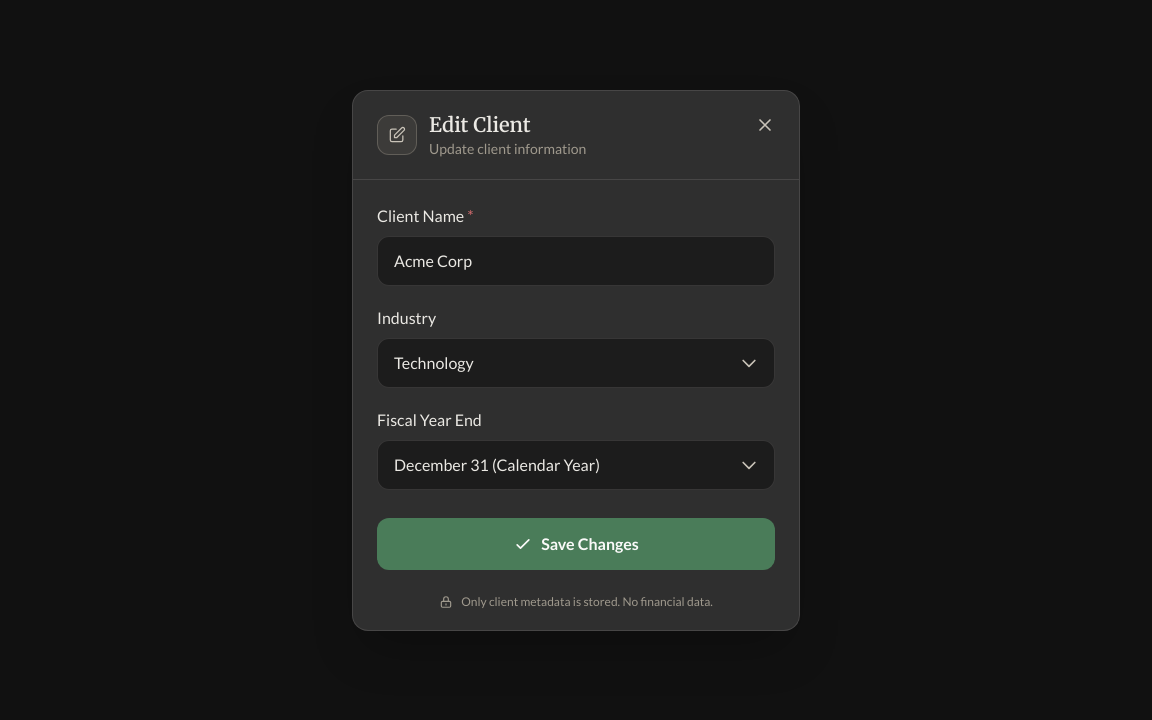
it: EditClientModal › shows validation error for empty name
Clear the field labelled "Client Name *". click: (576, 260)
box: left=377, top=236, right=775, bottom=286
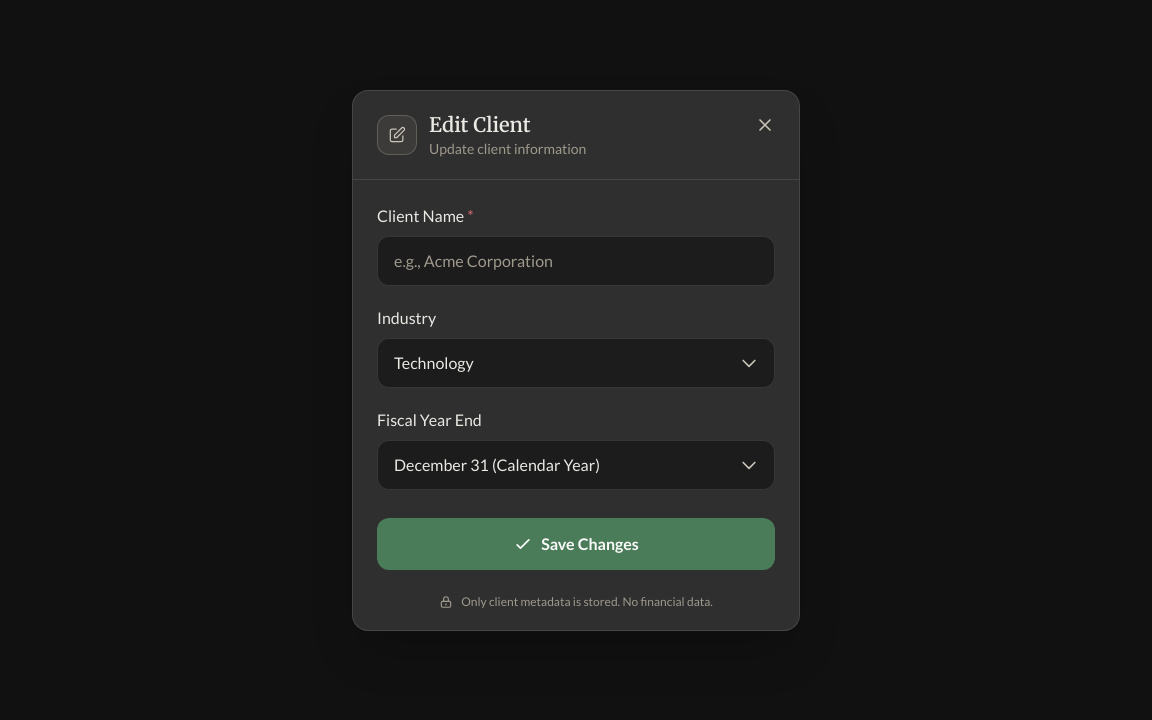
Leave the field labelled "Client Name *", box left=377, top=236, right=775, bottom=286
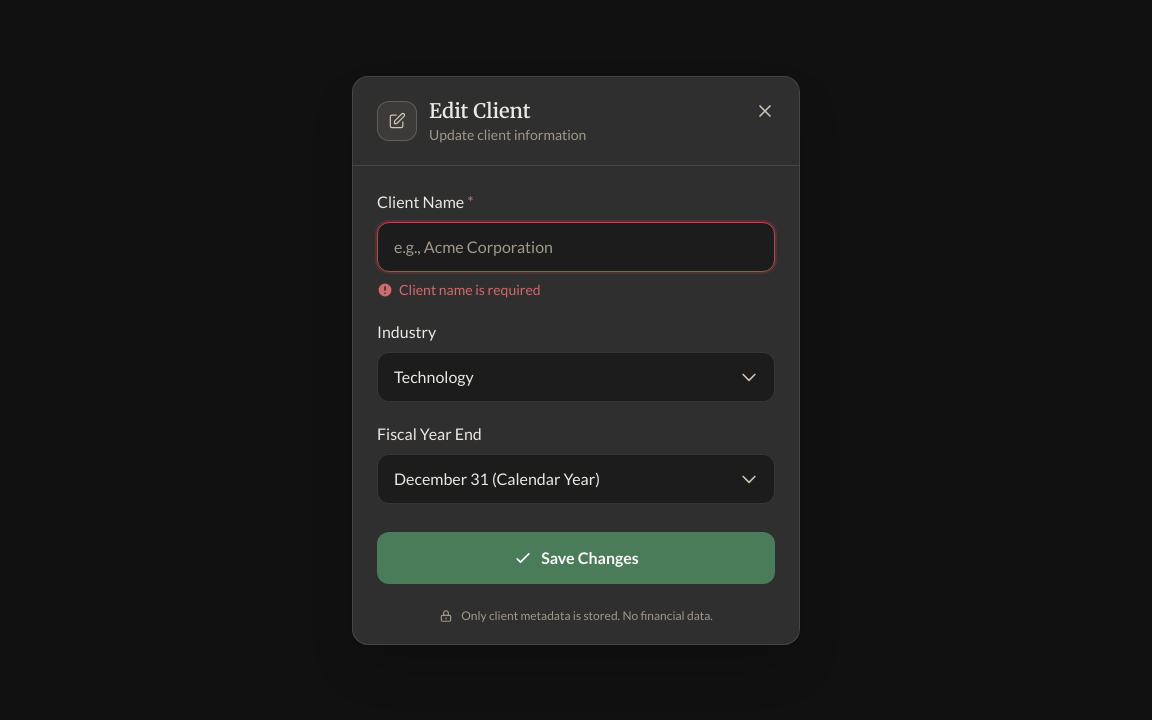
expect the text "Client name is required" is shown: met, box left=377, top=280, right=541, bottom=298
